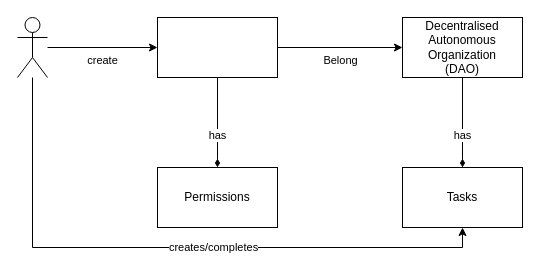
This 540x273 diagram has some shape labels left out. The box of each missing label's shape, as (x1, y1, x2, y2) in pixels:
Profile: (156, 16, 278, 78)
User: (16, 16, 48, 78)
